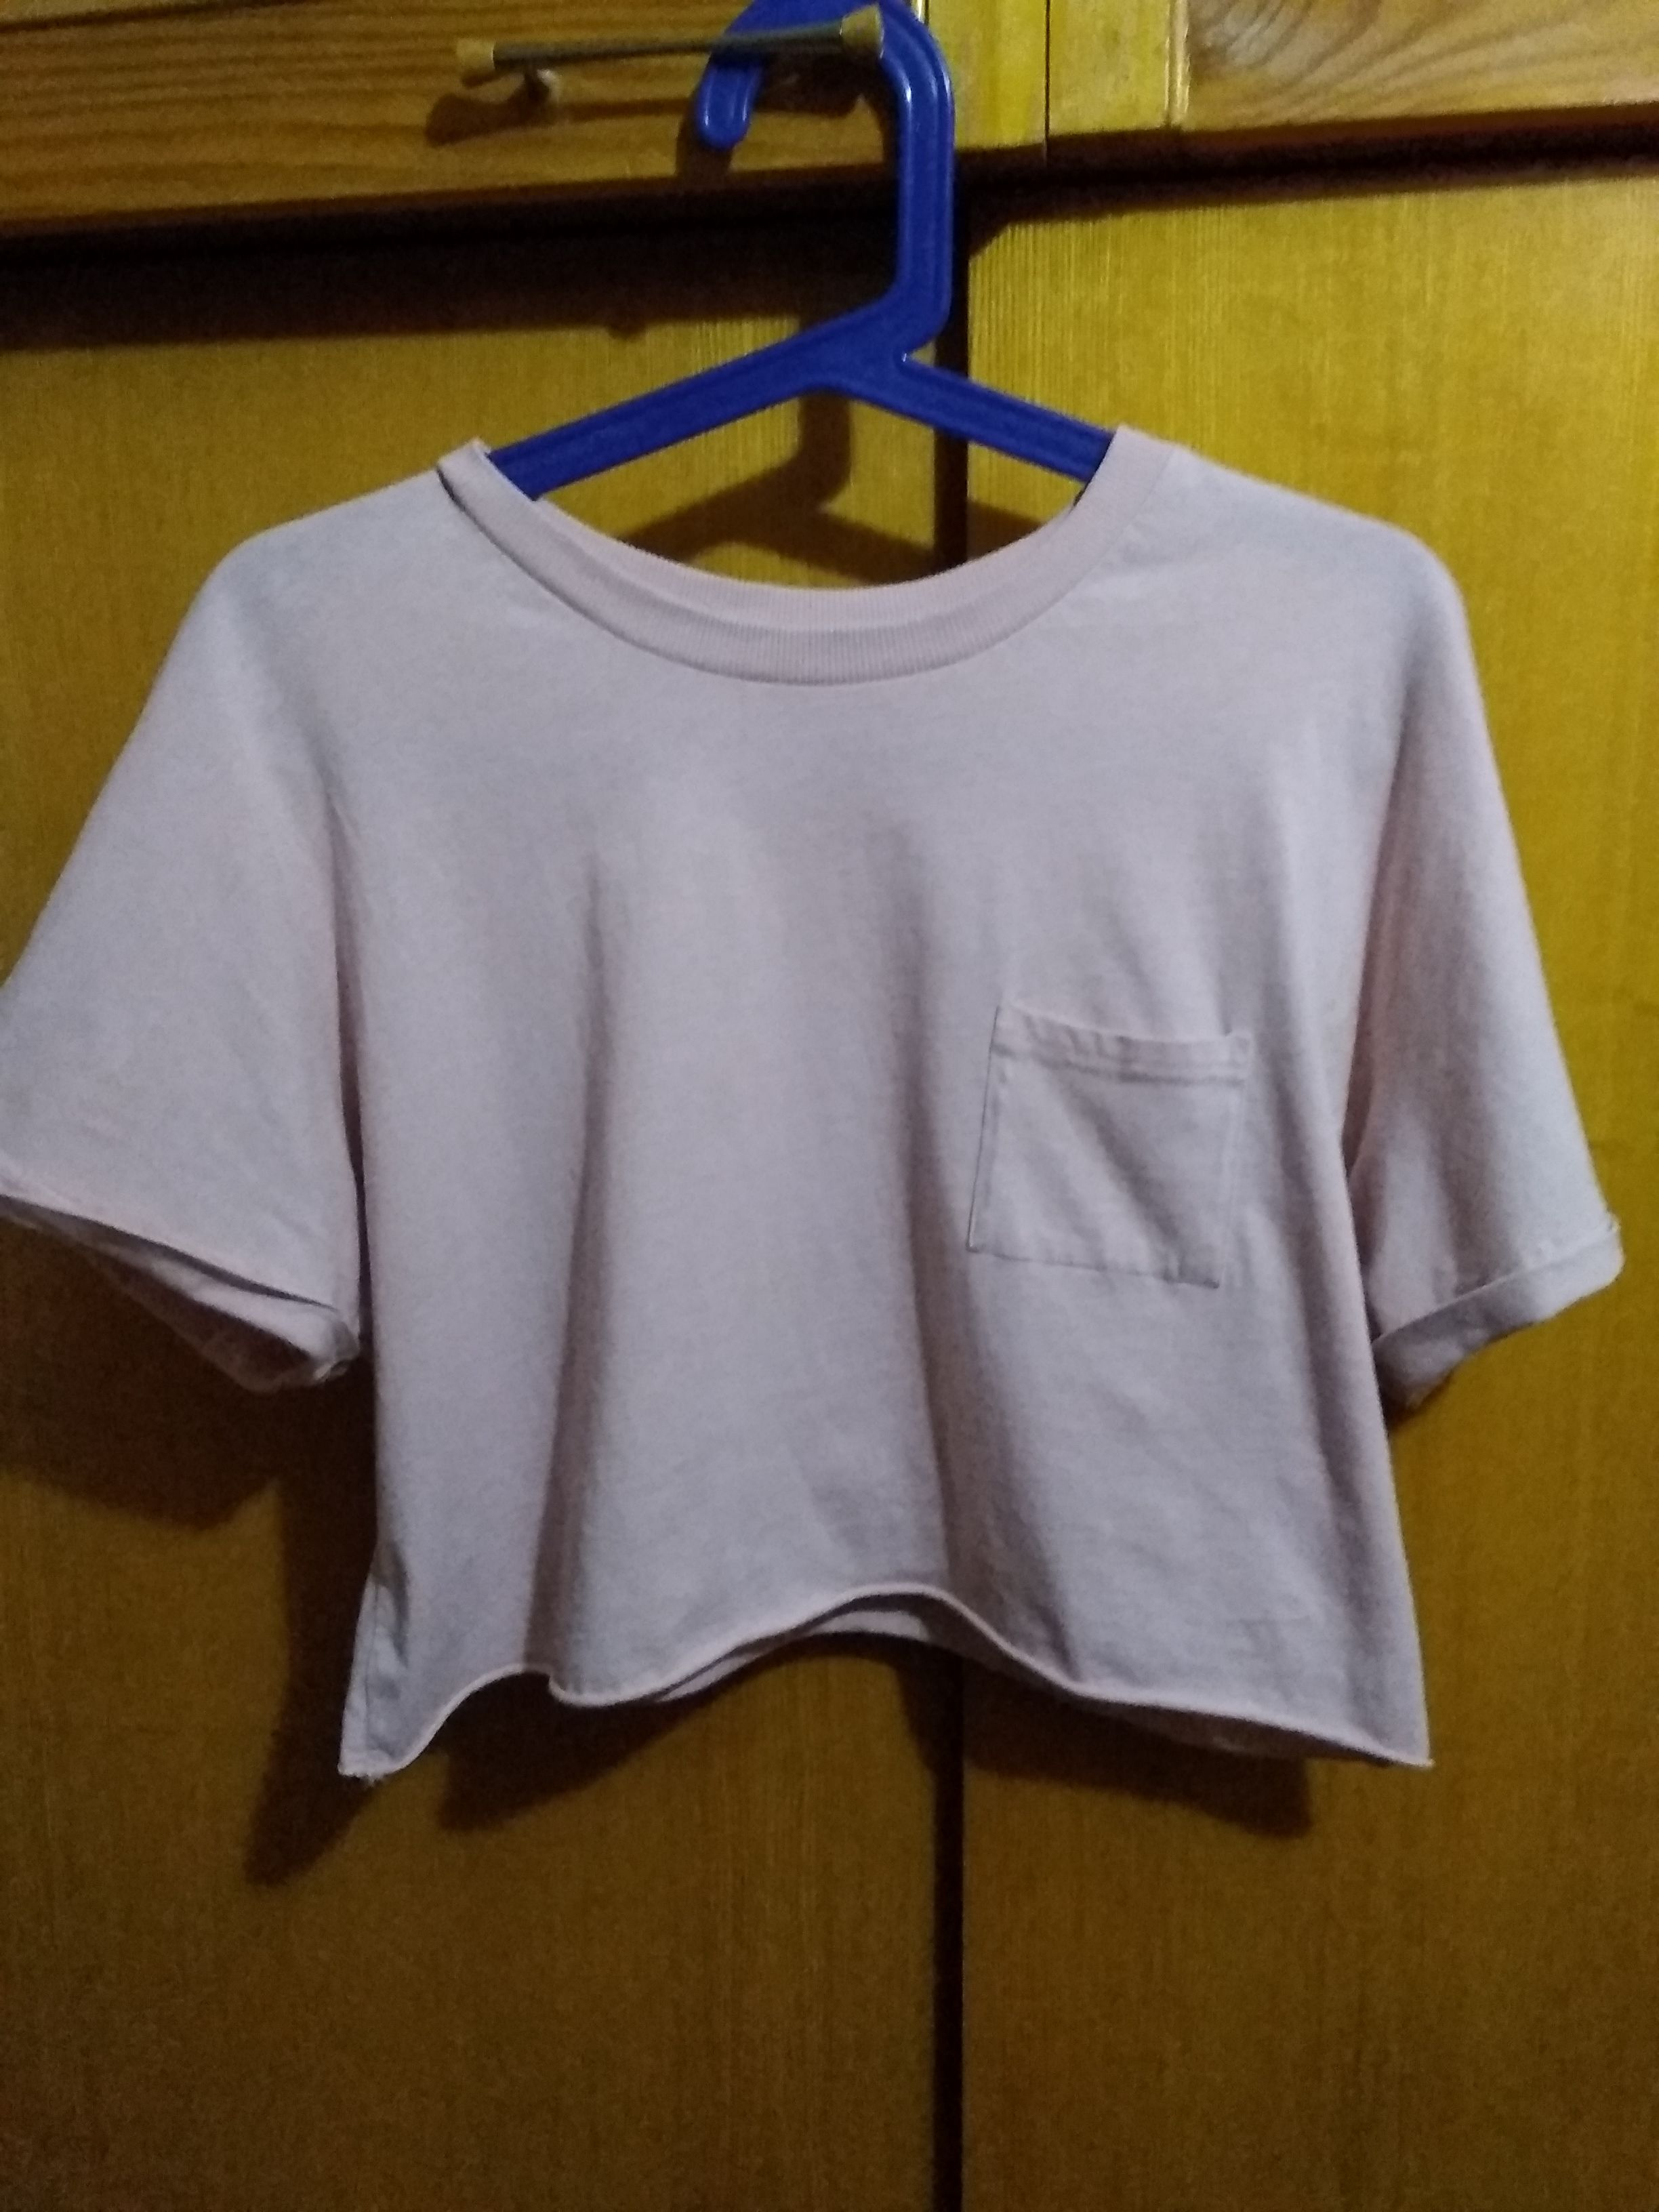clothes: (12, 437, 1607, 1803)
